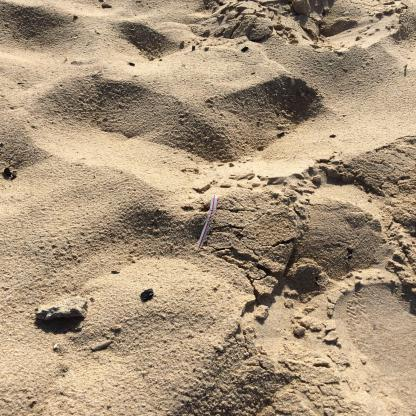Plastic straw: (196, 195, 218, 250)
